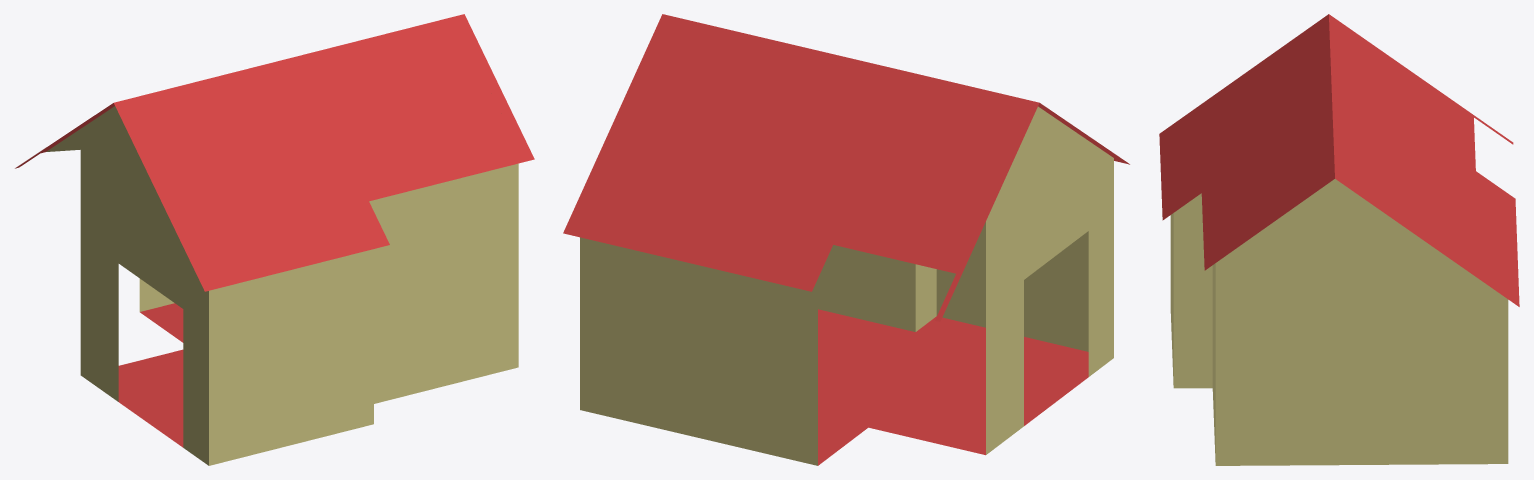
The picture shows the model from 3 angles, left to right: view 1: azimuth 30°, elevation 25°; view 2: azimuth 150°, elevation 25°; view 3: azimuth 270°, elevation 25°; orthographic projection. The views are drawn at different scales.
Bounding box in the file's own units: 17.67 × 16.13 × 14.38.
